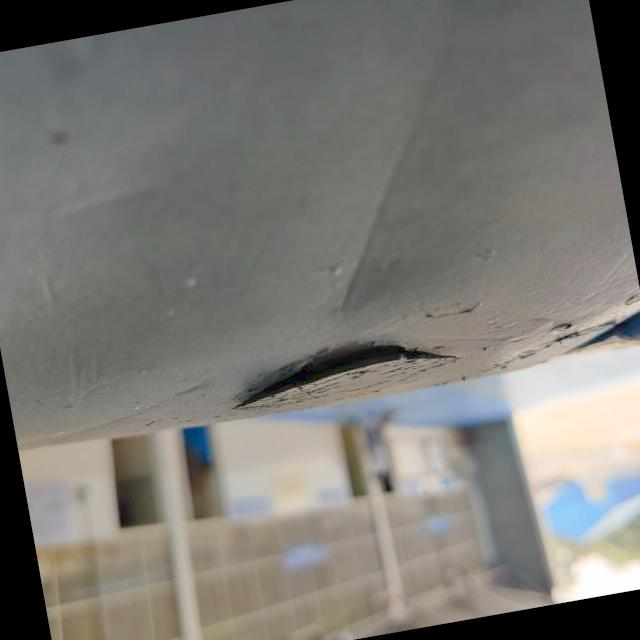crack: (208, 306, 474, 440)
